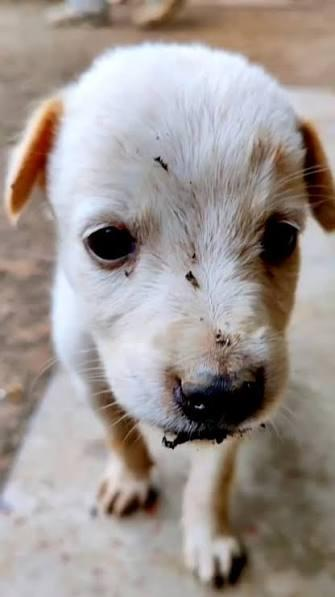puppy-dog: (4, 37, 335, 590)
